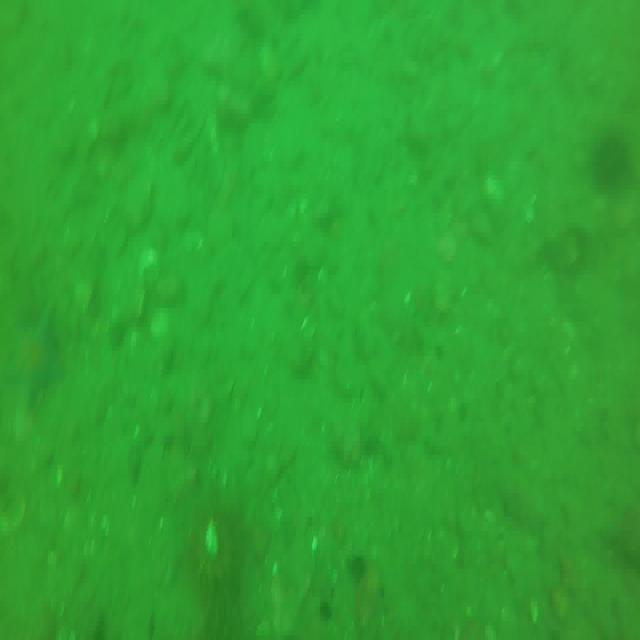echinus: (594, 128, 635, 193)
scallop: (136, 245, 159, 289), (153, 307, 175, 345), (204, 519, 220, 559)
starfish: (2, 302, 67, 417)
